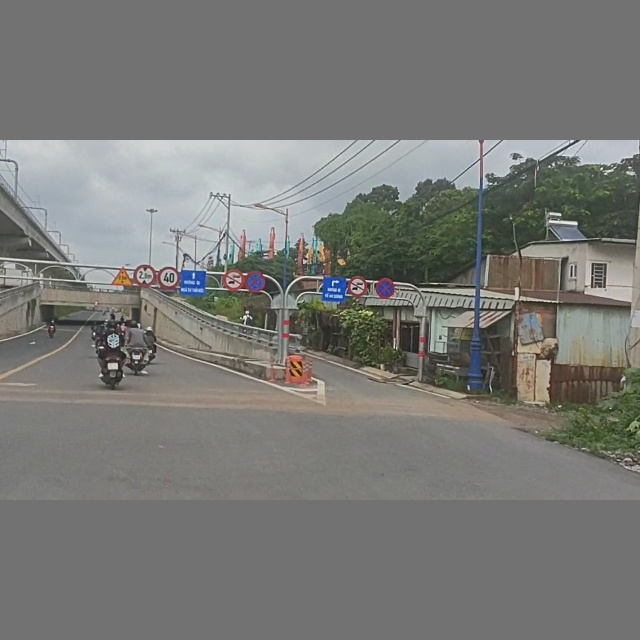P.107: (223, 269, 245, 292), (348, 276, 368, 298)
P.117*: (133, 264, 157, 287)
P.127*40: (158, 267, 180, 290)
P.130: (246, 270, 266, 293), (376, 277, 395, 299)
W.239b*: (111, 266, 133, 286)
